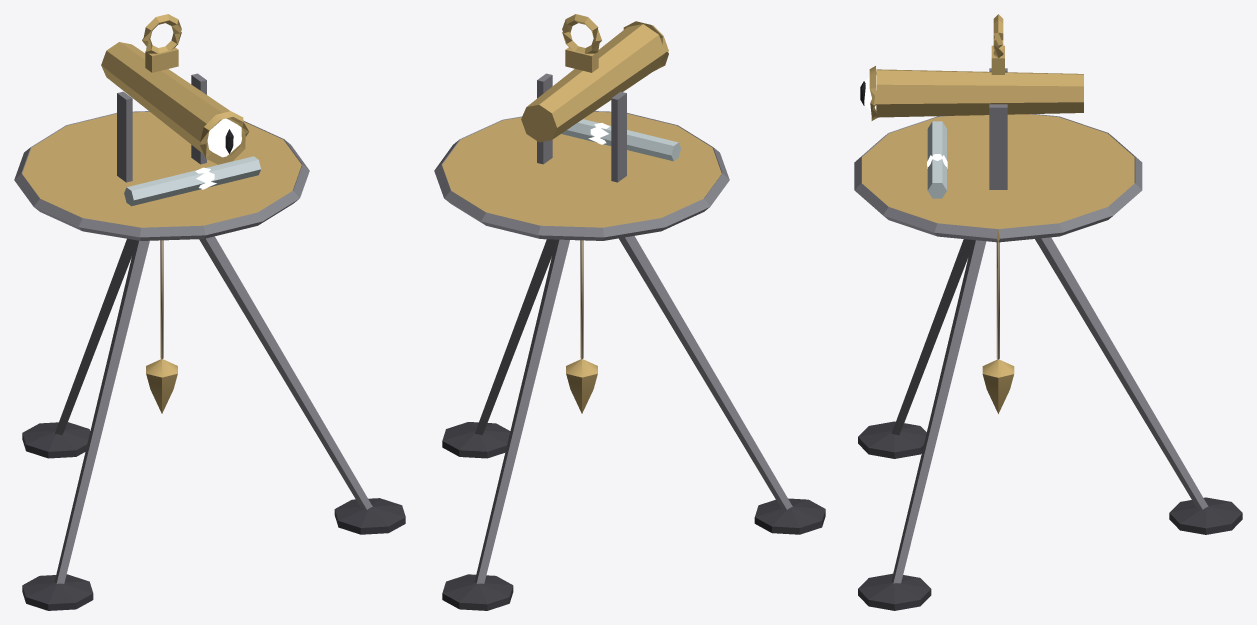
File: astrolabe-surveyors-disc.glb
3 renders of one model, left to right at view 1: azimuth 30°, elevation 25°; view 2: azimuth 150°, elevation 25°; view 3: azimuth 270°, elevation 25°, orthographic.
Parts seen in each view (by area): view 1: astrolabe_surveyors_disc; view 2: astrolabe_surveyors_disc; view 3: astrolabe_surveyors_disc.
Part boxes in pixels (<box>): astrolabe_surveyors_disc: <box>14,14,405,610</box>; astrolabe_surveyors_disc: <box>434,14,825,610</box>; astrolabe_surveyors_disc: <box>854,14,1242,610</box>.
Size of the model in its own units: 0.6224 by 0.7974 by 0.5584.
